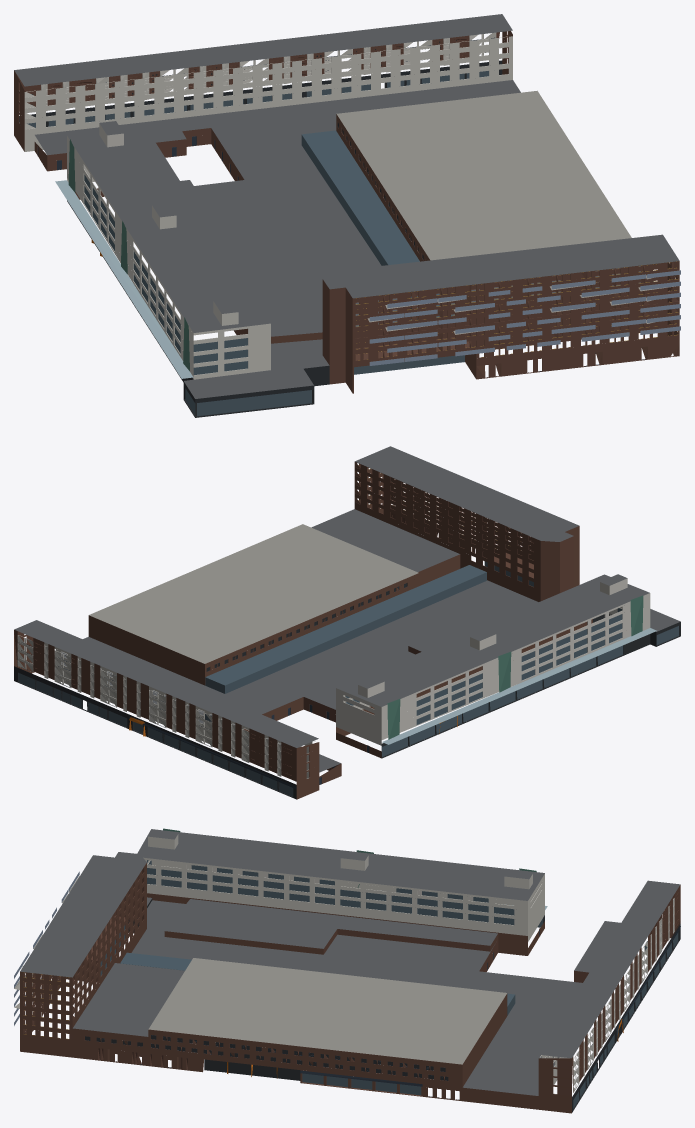
Rendered from winkelcentrum-plein-40-45.lod1.glb.
The picture shows the model from 3 angles, top to bottom: view 1: azimuth 30°, elevation 25°; view 2: azimuth 150°, elevation 25°; view 3: azimuth 270°, elevation 25°; orthographic projection. The views are drawn at different scales.
Visible parts, largest first — view 1: winkelcentrum-plein-40-45; view 2: winkelcentrum-plein-40-45; view 3: winkelcentrum-plein-40-45.
Boxes of the visible parts, box(x1,y1,x2,y2) form: winkelcentrum-plein-40-45: box(14, 14, 680, 417); winkelcentrum-plein-40-45: box(14, 446, 680, 799); winkelcentrum-plein-40-45: box(14, 828, 680, 1113).
Bounding box in the file's own units: 157 × 24.68 × 186.
